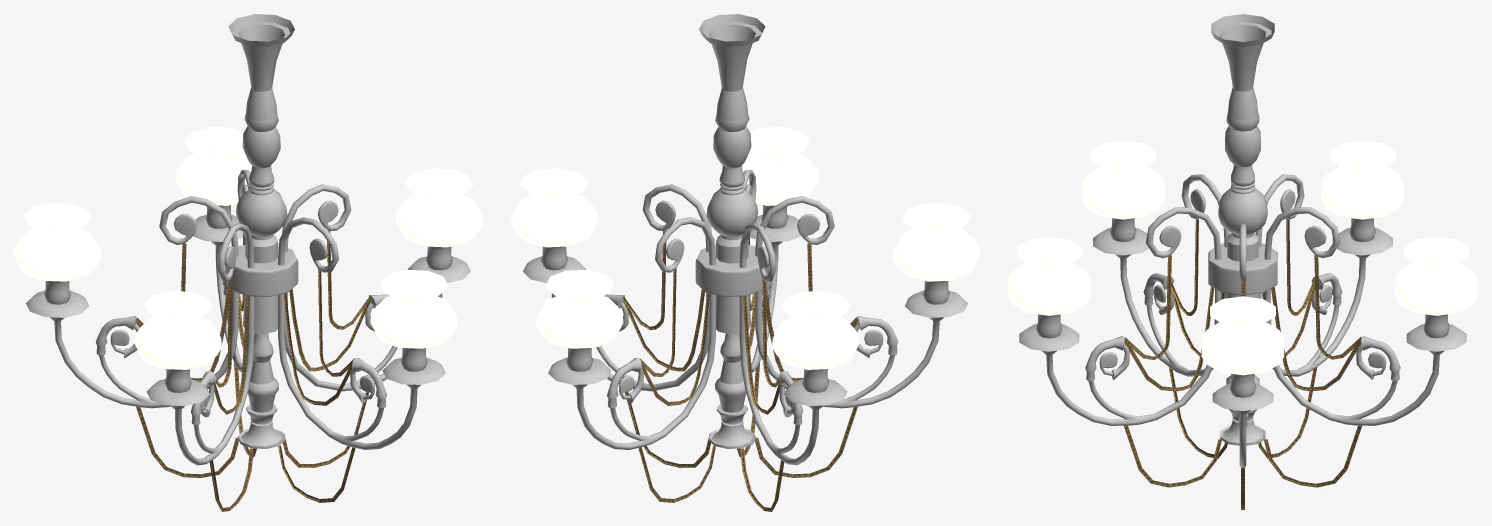
Rendered from Chandelier.fbx.
The picture shows the model from 3 angles, left to right: view 1: azimuth 30°, elevation 25°; view 2: azimuth 150°, elevation 25°; view 3: azimuth 270°, elevation 25°; orthographic projection.
Visible parts, largest first — view 1: VictorianChandelier; view 2: VictorianChandelier; view 3: VictorianChandelier.
Part boxes in pixels (x1,y1,x2,y2): VictorianChandelier: (14,14,482,511); VictorianChandelier: (511,14,979,511); VictorianChandelier: (1008,14,1477,509).
Size of the model in its own units: 1.76 by 1.92 by 1.82.
